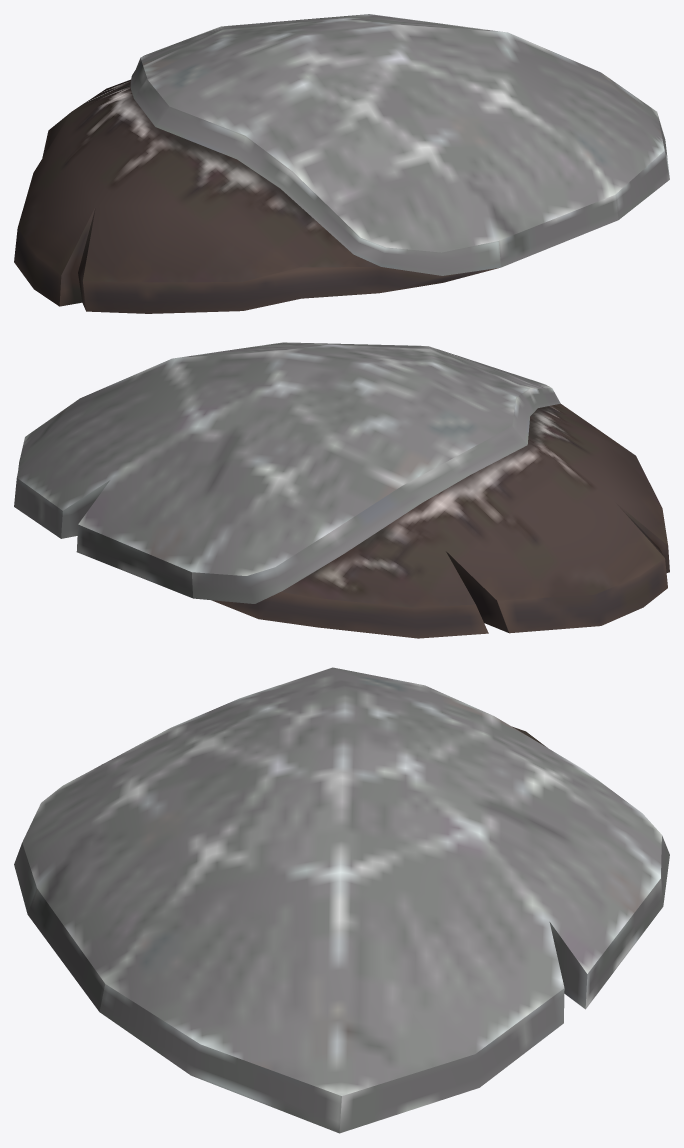
The model's file is Item_Enemy_38.glb.
3 renders of one model, top to bottom at view 1: azimuth 30°, elevation 25°; view 2: azimuth 150°, elevation 25°; view 3: azimuth 270°, elevation 25°, orthographic. The views are drawn at different scales.
Parts seen in each view (by area): view 1: Item_Enemy_38; view 2: Item_Enemy_38; view 3: Item_Enemy_38.
Part boxes in pixels (x1,y1,x2,y2): Item_Enemy_38: (14,14,669,313); Item_Enemy_38: (14,342,669,638); Item_Enemy_38: (14,667,669,1133).
Bounding box in the file's own units: 0.9368 × 0.2664 × 0.7214.
1 material, 1 textured.
